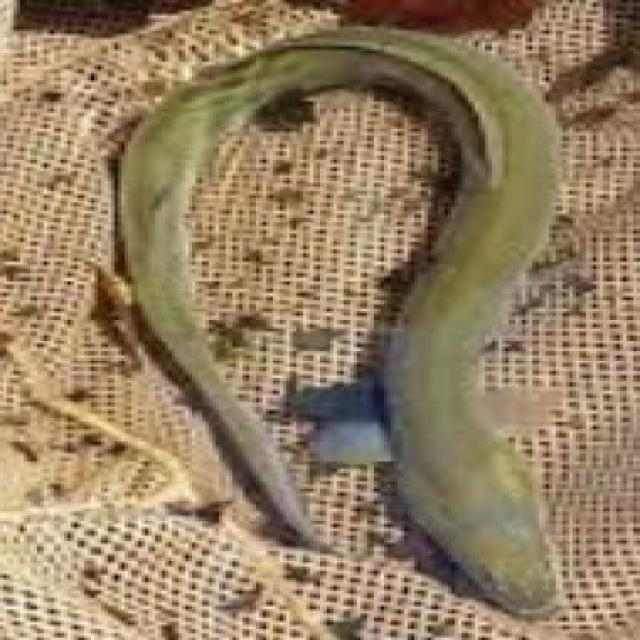Freshwater-Eel: (119, 7, 640, 602)
